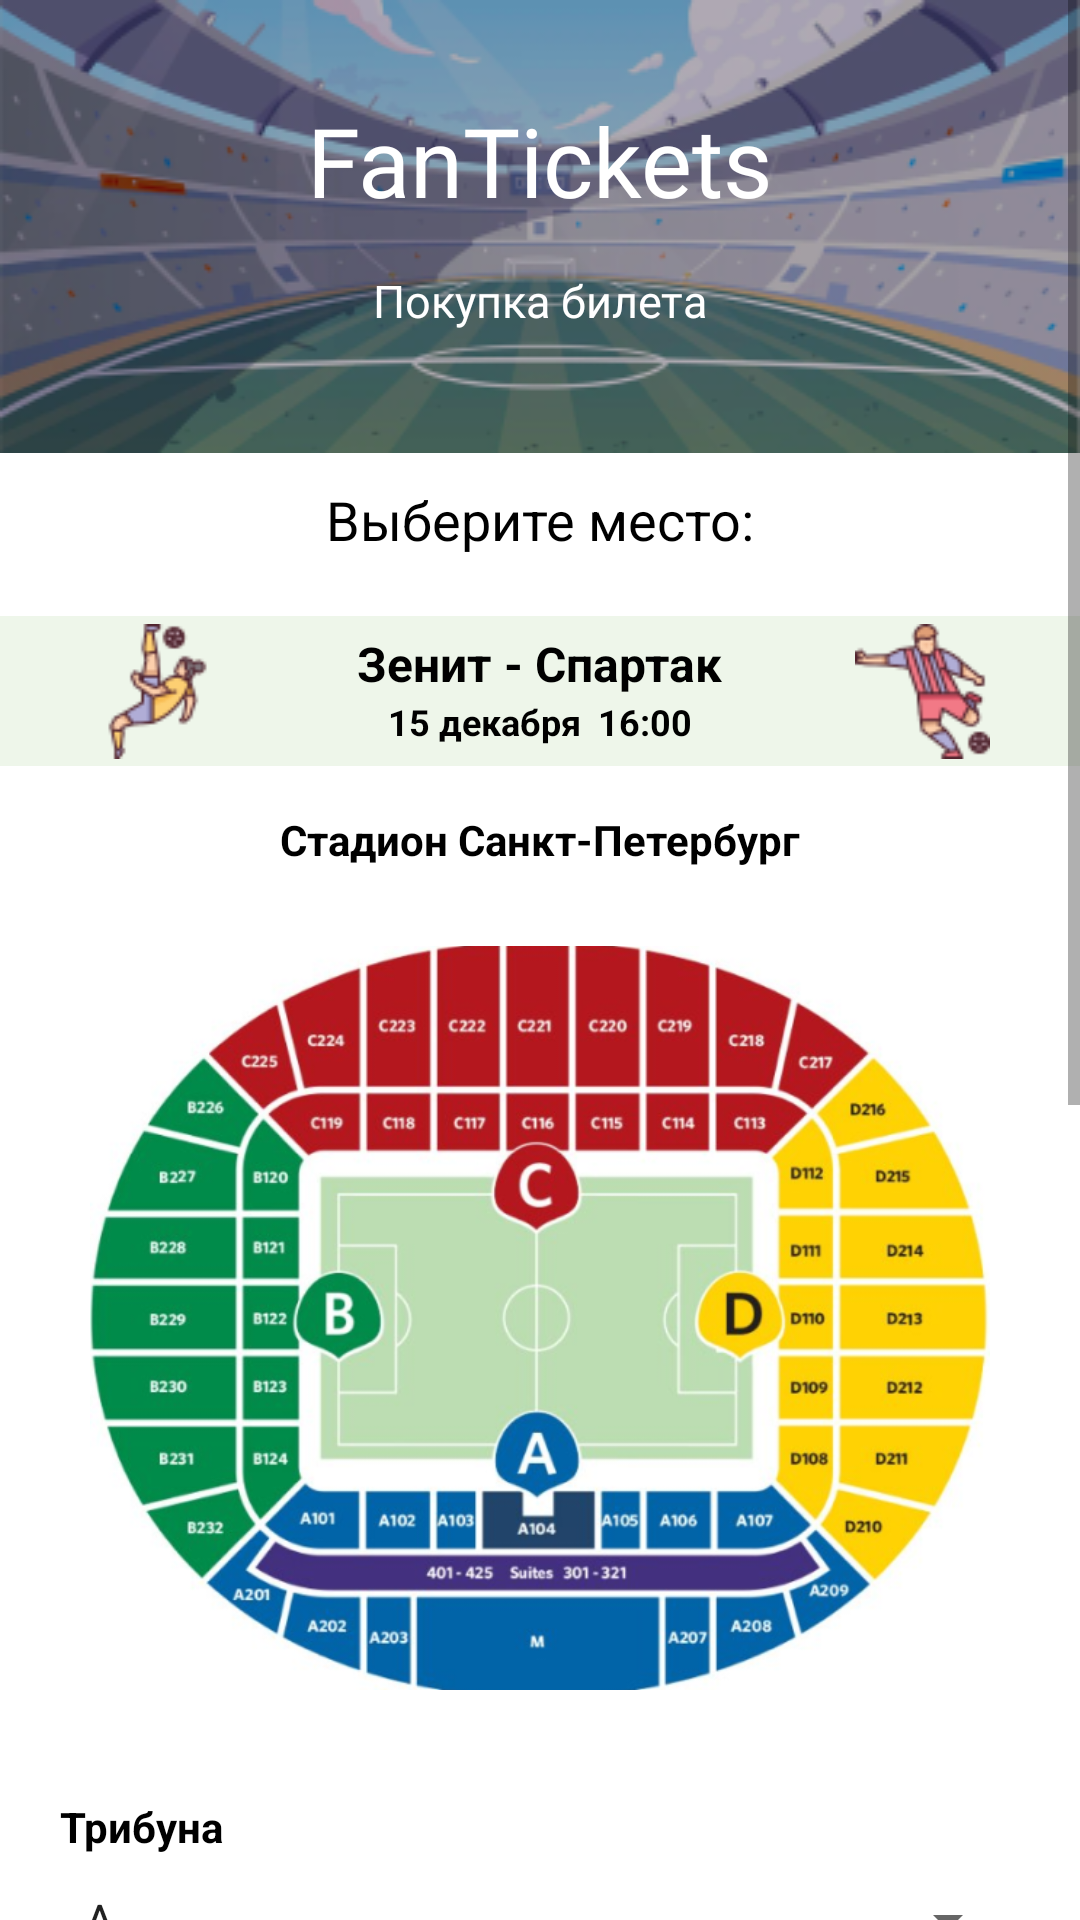

Locate icon controls on the screen. Image size 1080x1920, boxes as (x1, y1, x2, y2).
kick: (108, 624, 207, 759)
shoot: (855, 624, 990, 759)
